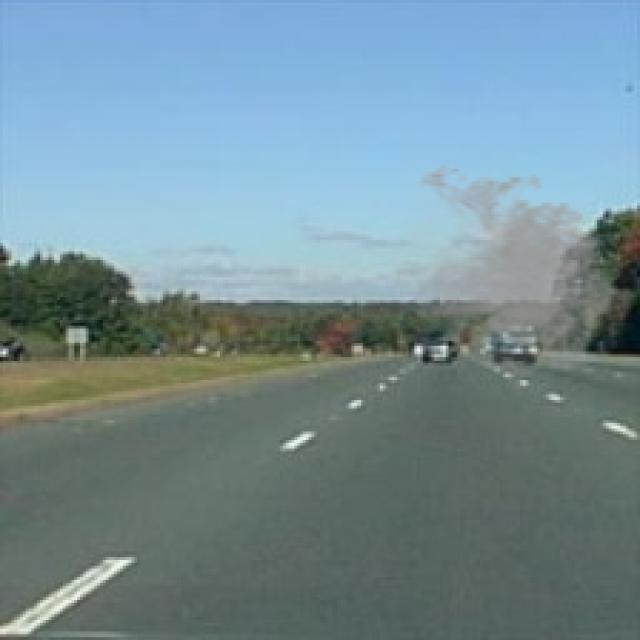smoke: (383, 160, 631, 394)
